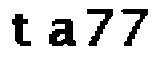7: (81, 5, 116, 51), (118, 7, 152, 49)
a: (44, 16, 78, 50)
t: (5, 9, 34, 54)
